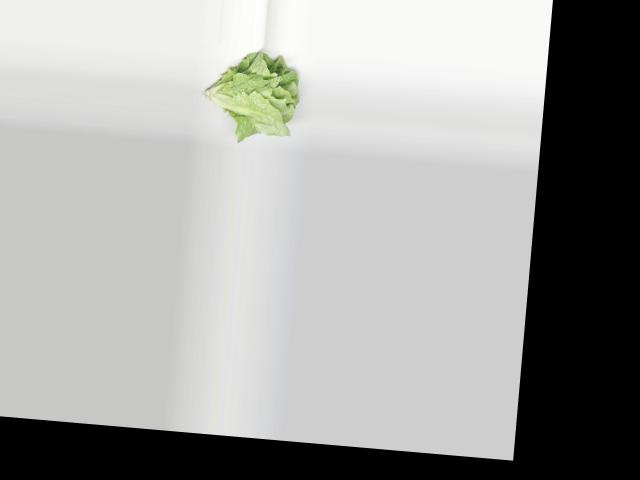lettuce: (197, 46, 303, 146)
